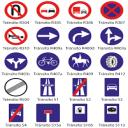NoVirarU: (3, 0, 29, 19)
